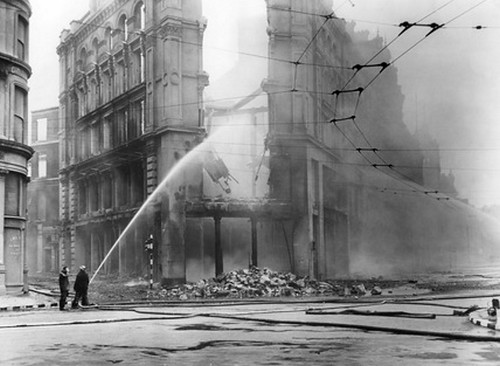building: (57, 1, 424, 284)
firefighter: (69, 256, 96, 308), (54, 257, 73, 313)
